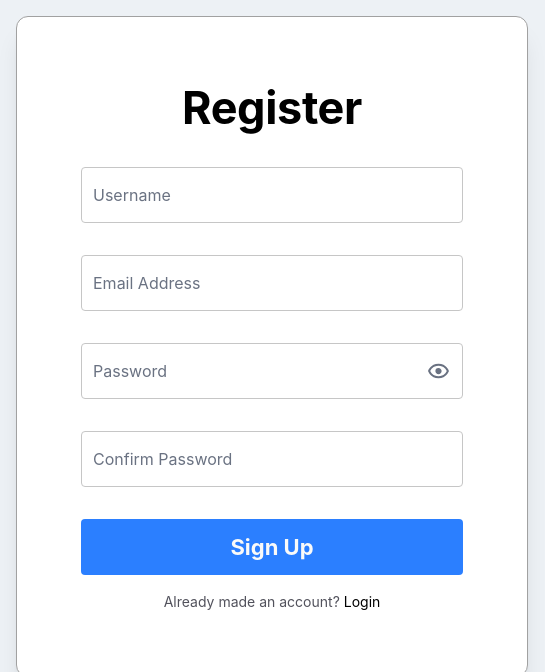
it: Registration Form › shows an error message when the user enters a username < 3 chars long or > 20 chars long
This screenshot has width=545, height=672.
Type "te" into the field labelled "Username". click: point(272, 195)
box: [81, 167, 463, 223]
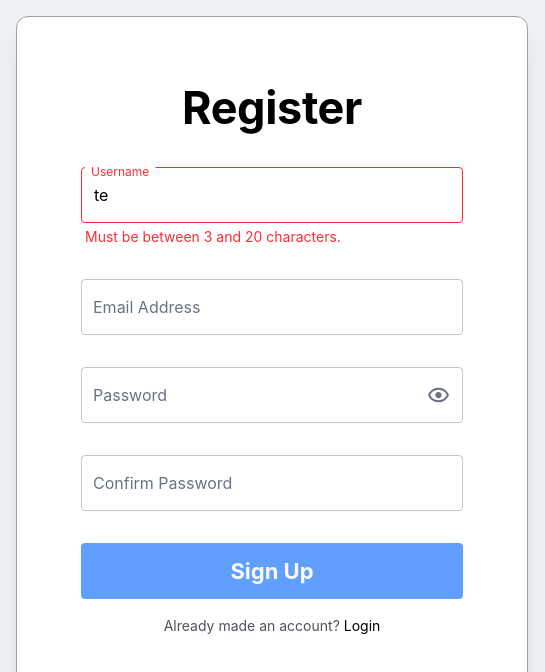
Now the text "Must be between 3 and 20 characters." is shown, box [85, 228, 341, 245]
Replace the text in the field labelled "Username" with "abcdefghijklmnopqrstuvwxyz". click: point(272, 195)
box: [81, 167, 463, 223]
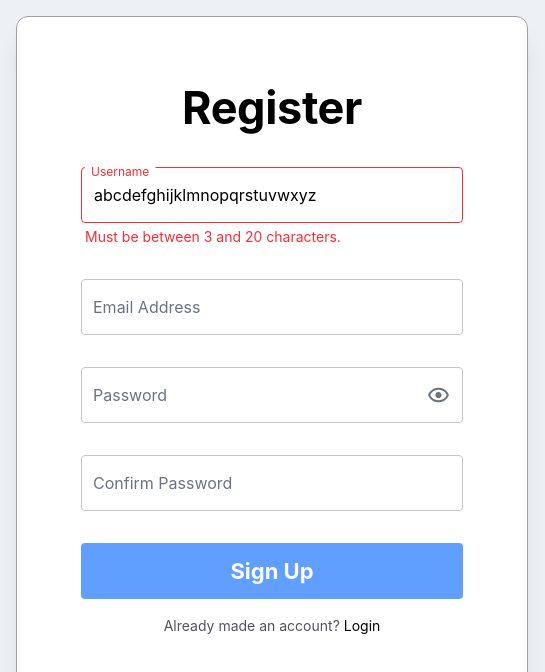
Now the text "Must be between 3 and 20 characters." is shown, box [85, 228, 341, 245]
Replace the text in the field labelled "Username" with "username". click: point(272, 195)
box: [81, 167, 463, 223]
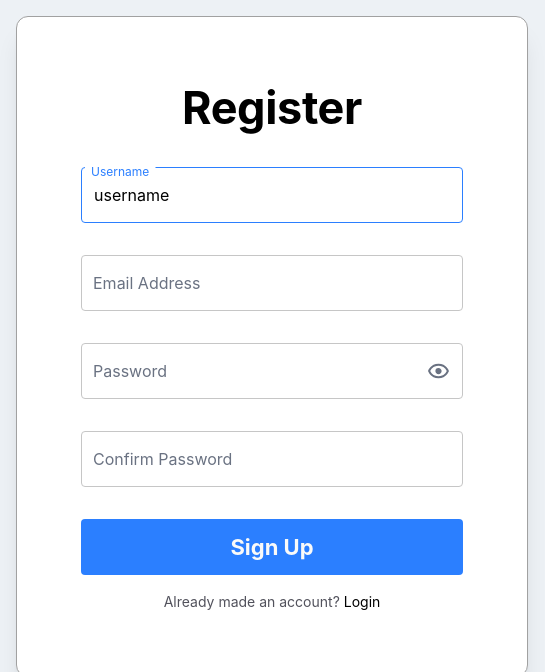
Now the text "Must be between" is gone
